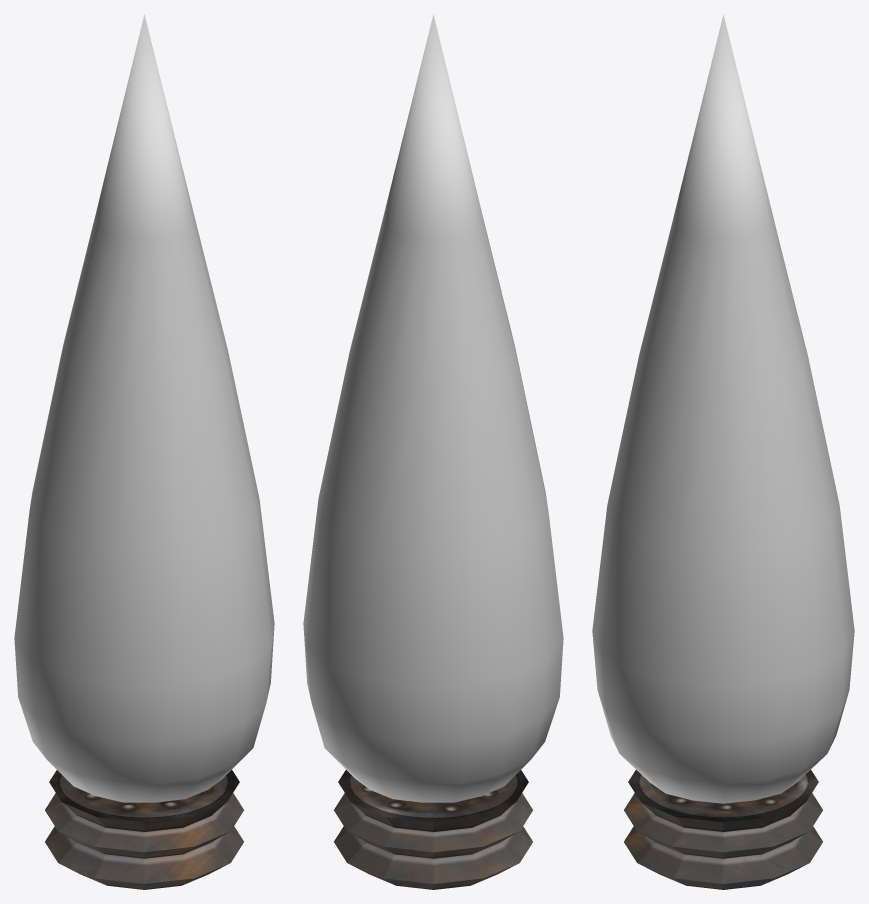
The model's file is BurnerFlame.fbx.
3 renders of one model, left to right at view 1: azimuth 30°, elevation 25°; view 2: azimuth 150°, elevation 25°; view 3: azimuth 270°, elevation 25°, orthographic.
Visible parts, largest first — view 1: FlameOuter, BurnerEmitter; view 2: FlameOuter, BurnerEmitter; view 3: FlameOuter, BurnerEmitter.
Boxes of the visible parts, x1,y1,x2,y2 form: FlameOuter: (14, 14, 274, 802); BurnerEmitter: (45, 770, 243, 889); FlameOuter: (303, 14, 563, 802); BurnerEmitter: (334, 770, 532, 889); FlameOuter: (592, 14, 854, 803); BurnerEmitter: (624, 770, 822, 889).
Bounding box in the file's own units: 177 × 630 × 177.
